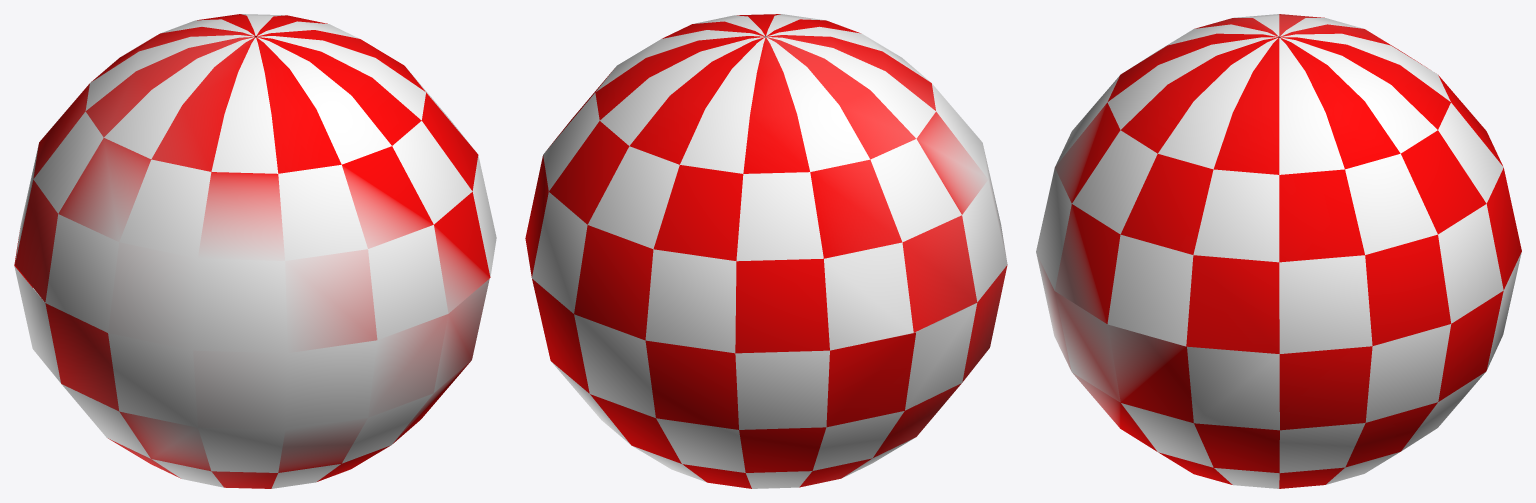
Rendered from ball.glb.
The picture shows the model from 3 angles, left to right: view 1: azimuth 30°, elevation 25°; view 2: azimuth 150°, elevation 25°; view 3: azimuth 270°, elevation 25°; orthographic projection.
Visible parts, largest first — view 1: Sphere.001; view 2: Sphere.001; view 3: Sphere.001.
Part boxes in pixels (x1=…): Sphere.001: x1=14, y1=14, x2=496, y2=488; Sphere.001: x1=525, y1=14, x2=1007, y2=488; Sphere.001: x1=1036, y1=14, x2=1521, y2=488.
Bounding box in the file's own units: 2 × 1.95 × 2.
